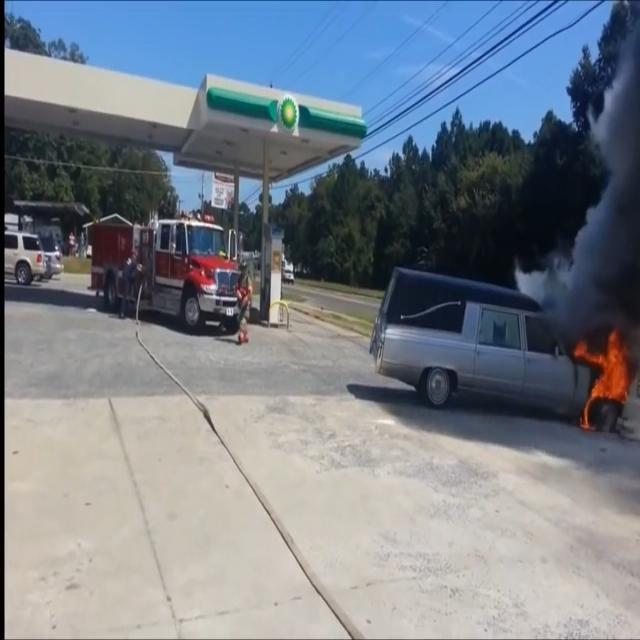fire: (566, 329, 633, 438)
